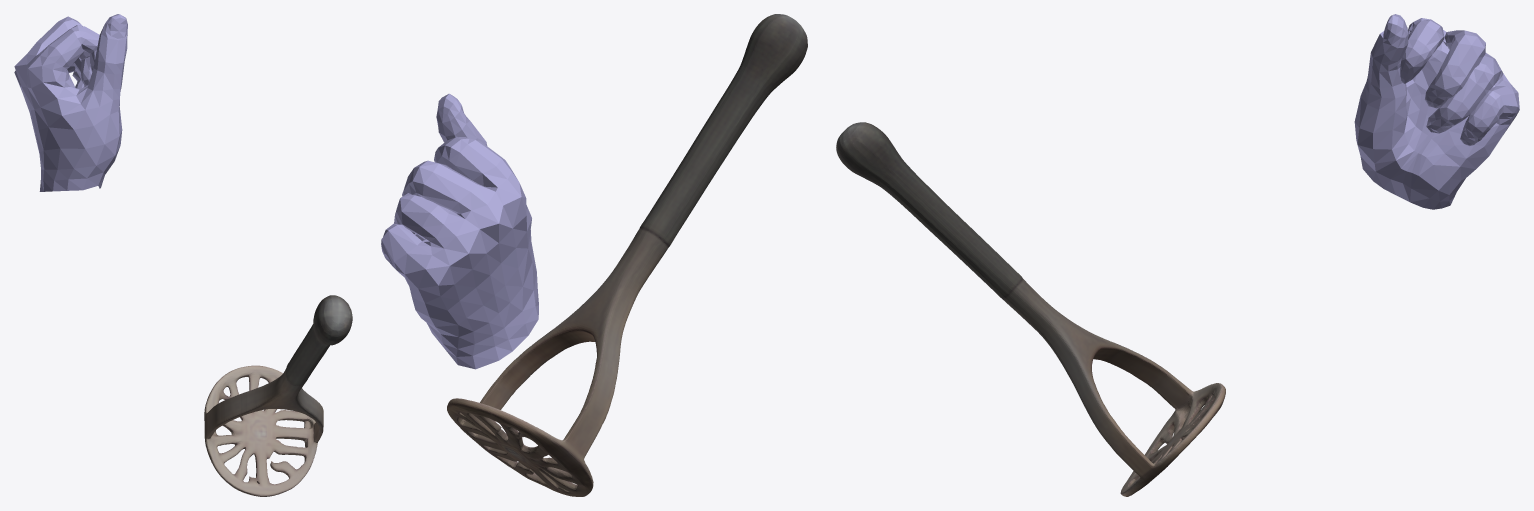
File: frame_0035_source_000035_hand_object.glb
The picture shows the model from 3 angles, left to right: view 1: azimuth 30°, elevation 25°; view 2: azimuth 150°, elevation 25°; view 3: azimuth 270°, elevation 25°; orthographic projection. The views are drawn at different scales.
Visible parts, largest first — view 1: world; view 2: world; view 3: world.
Boxes of the visible parts, x1=… form: world: x1=14, y1=14, x2=352, y2=496; world: x1=381, y1=14, x2=807, y2=496; world: x1=836, y1=14, x2=1519, y2=496.
Size of the model in its own units: 0.1207 by 0.2759 by 0.3751.
